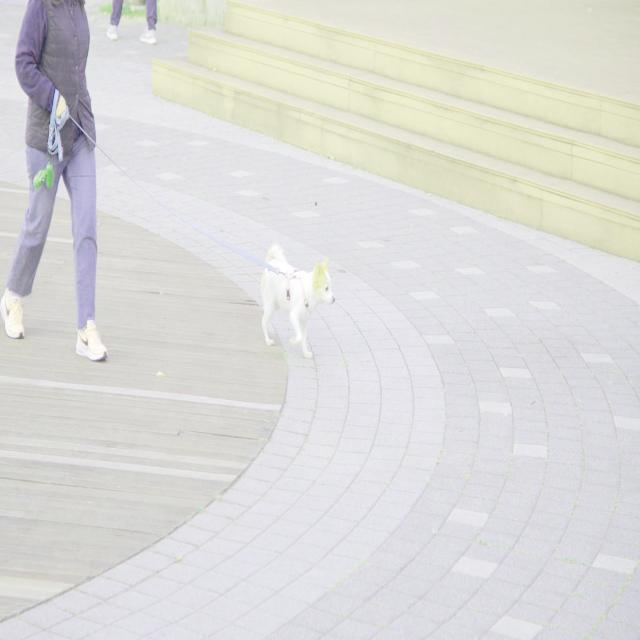Leashed_Dog: (78, 122, 336, 363)
